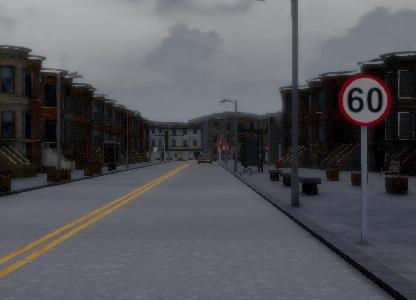Speed_60: (338, 70, 394, 128)
